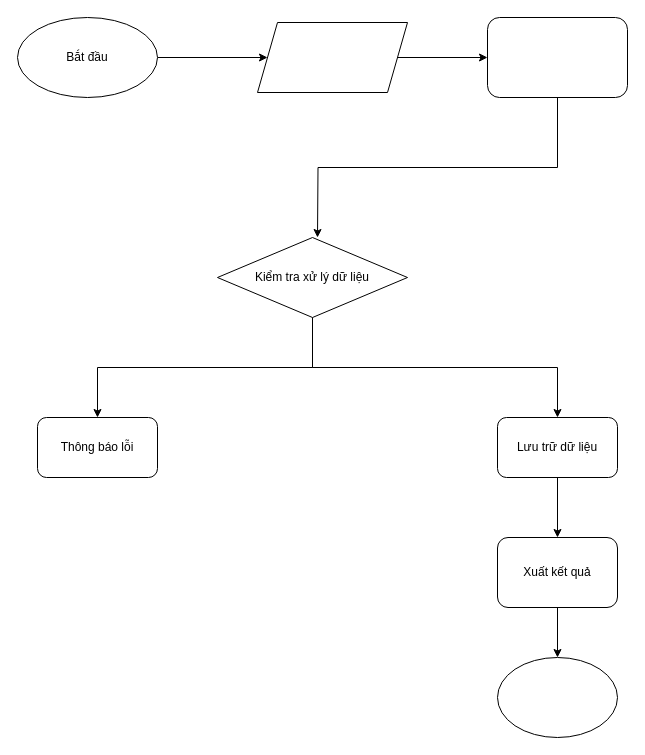
Some shapes in this 645 by 755 pixel diagram are drawn without their labels. Each missing label, with the centre of its shape:
"Hệ thống nhận thông tin" belongs at pixel 557 57.
"Học sinh nhập kết quả" belongs at pixel 332 57.
"The end" belongs at pixel 557 697.
